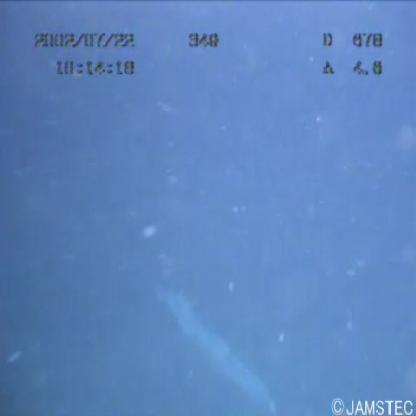Rác: (138, 261, 307, 416)
